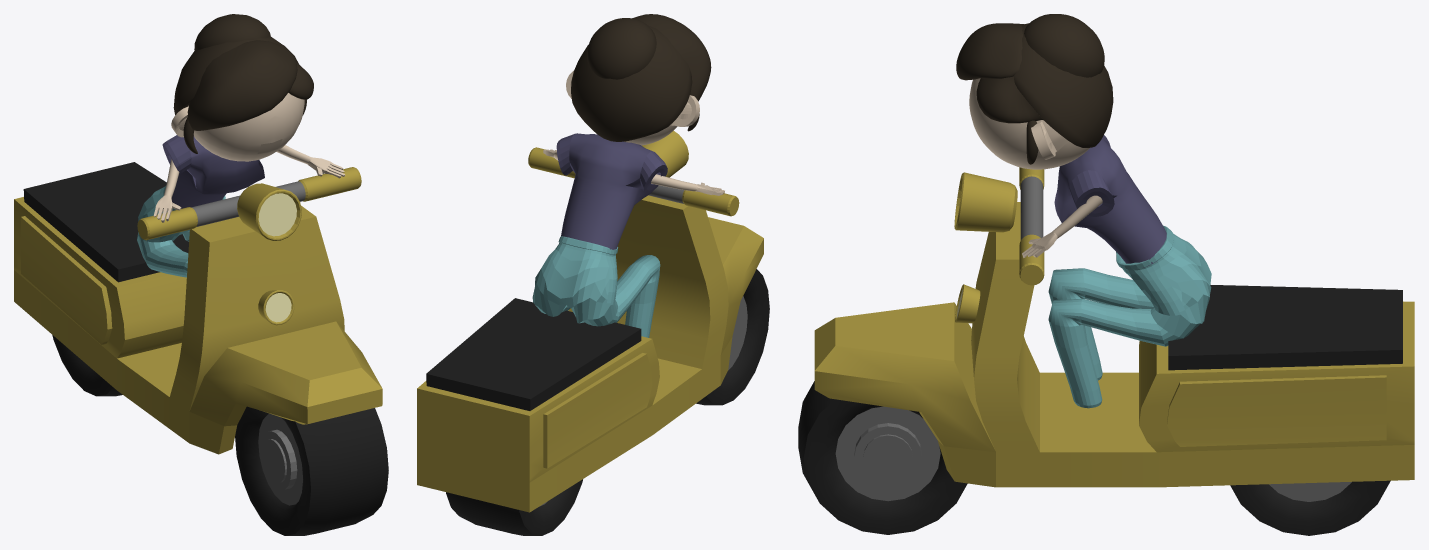
Rendered from bike people.fbx.
3 views of the same model, side by side, from view 1: azimuth 30°, elevation 25°; view 2: azimuth 150°, elevation 25°; view 3: azimuth 270°, elevation 25° (orthographic). The views are drawn at different scales.
Visible parts, largest first — view 1: pCube1, pCylinder1, pSphere28, pCylinder14, pCylinder15, pCylinder5, pCylinder4, polySurface16, pSphere27, pSphere30, pCylinder2, pCylinder6 (+3 smaller); view 2: pCube1, polySurface16, pCylinder15, pSphere27, pCylinder1, pCylinder2, pSphere30, pSphere28, pCylinder5, pCylinder4, pCylinder14, polySurface17; view 3: pCube1, pCylinder1, polySurface16, pCylinder15, pCylinder2, pSphere27, pCylinder14, pSphere30, pCylinder4, pSphere28, pCylinder5, pSphere29 (+2 smaller).
Boxes of the visible parts, x1,y1,x2,y2 form: pCube1: [14, 162, 382, 454]; pCylinder1: [235, 406, 388, 535]; pSphere28: [187, 40, 297, 130]; pCylinder14: [171, 93, 304, 161]; pCylinder15: [162, 135, 264, 208]; pCylinder5: [137, 167, 361, 240]; pCylinder4: [237, 183, 301, 240]; polySurface16: [137, 185, 225, 277]; pSphere27: [173, 36, 298, 115]; pSphere30: [194, 14, 270, 50]; pCylinder2: [52, 335, 122, 396]; pCylinder6: [258, 290, 294, 325]; pCube1: [417, 195, 763, 512]; polySurface16: [532, 236, 660, 337]; pCylinder15: [556, 133, 667, 254]; pSphere27: [571, 25, 692, 141]; pCylinder1: [696, 269, 769, 405]; pCylinder2: [446, 479, 582, 535]; pSphere30: [587, 18, 656, 79]; pSphere28: [632, 14, 711, 101]; pCylinder5: [528, 147, 739, 216]; pCylinder4: [642, 130, 688, 177]; pCylinder14: [566, 70, 699, 145]; polySurface17: [651, 174, 724, 195]; pCube1: [814, 202, 1414, 487]; pCylinder1: [798, 381, 967, 534]; polySurface16: [1048, 225, 1211, 408]; pCylinder15: [1054, 135, 1166, 267]; pCylinder2: [1230, 480, 1390, 535]; pSphere27: [1014, 23, 1113, 147]; pCylinder14: [969, 78, 1089, 169]; pSphere30: [1024, 14, 1104, 77]; pCylinder4: [954, 172, 1017, 232]; pSphere28: [956, 23, 1023, 80]; pCylinder5: [1019, 167, 1044, 285]; pSphere29: [976, 76, 1042, 123].
Bounding box in the file's own units: 4.02 × 8.12 × 9.06.
